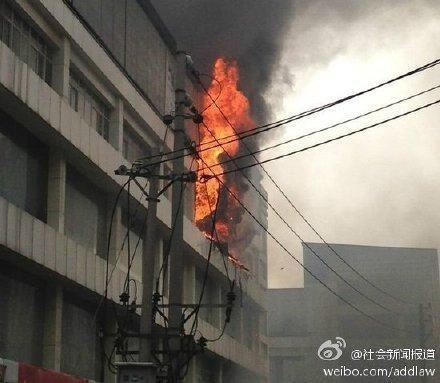fire: (185, 56, 246, 226)
